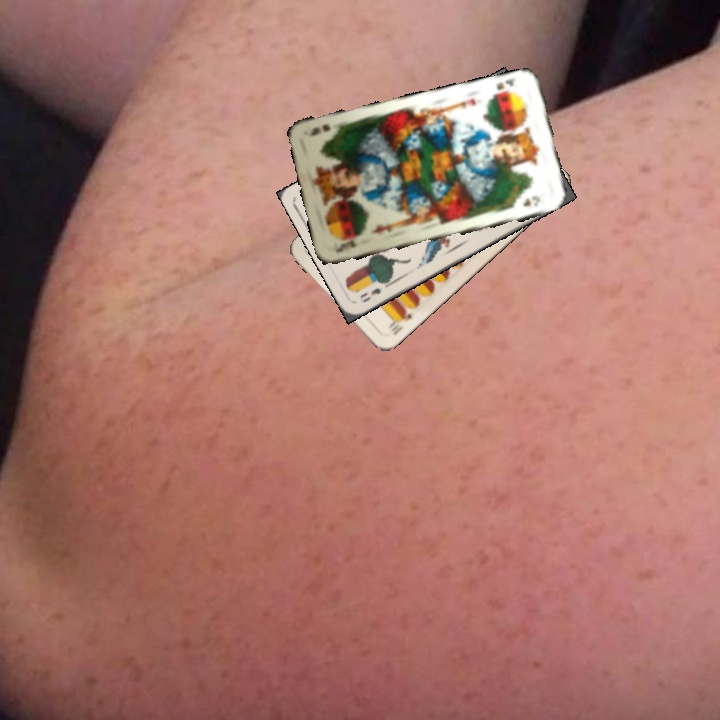E10: (384, 306, 414, 338)
EO: (356, 278, 391, 305)
SK: (489, 74, 518, 99), (332, 236, 361, 255)
